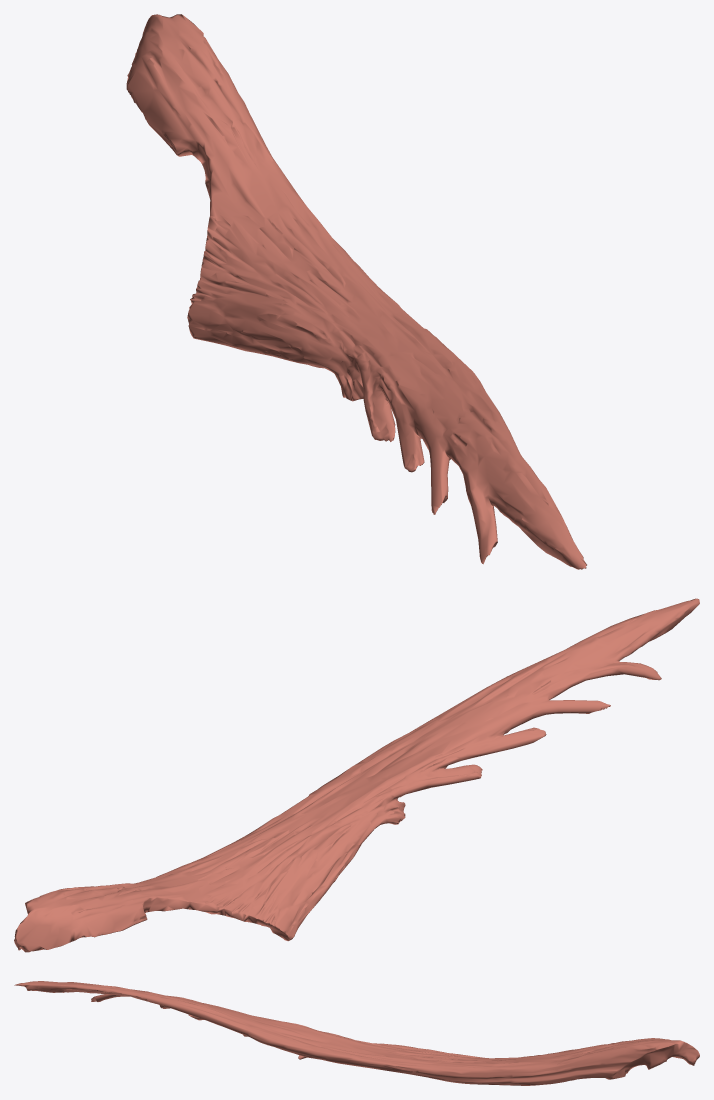
The picture shows the model from 3 angles, top to bottom: view 1: azimuth 30°, elevation 25°; view 2: azimuth 150°, elevation 25°; view 3: azimuth 270°, elevation 25°; orthographic projection. The views are drawn at different scales.
Parts seen in each view (by area): view 1: 右侧腰髂肋肌; view 2: 右侧腰髂肋肌; view 3: 右侧腰髂肋肌.
Part boxes in pixels (x1,y1,x2,y2): 右侧腰髂肋肌: (126,14,586,569); 右侧腰髂肋肌: (14,598,699,952); 右侧腰髂肋肌: (14,981,699,1085).
Bounding box in the file's own units: 0.1393 × 0.07 × 0.575.
